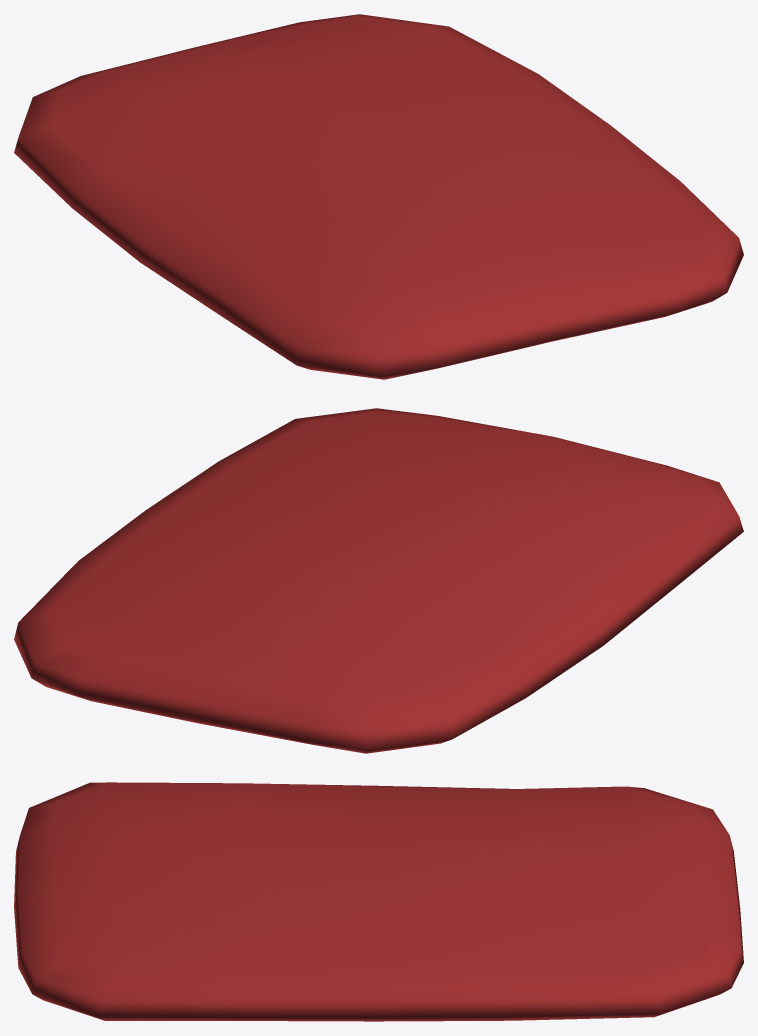
File: Dust_normal.fbx
3 renders of one model, top to bottom at view 1: azimuth 30°, elevation 25°; view 2: azimuth 150°, elevation 25°; view 3: azimuth 270°, elevation 25°, orthographic. The views are drawn at different scales.
Parts seen in each view (by area): view 1: pCube225; view 2: pCube225; view 3: pCube225.
Part boxes in pixels (x1,y1,x2,y2): pCube225: (14,14,743,379); pCube225: (14,408,743,753); pCube225: (14,782,743,1021).
Size of the model in its own units: 337 by 55.57 by 463.
